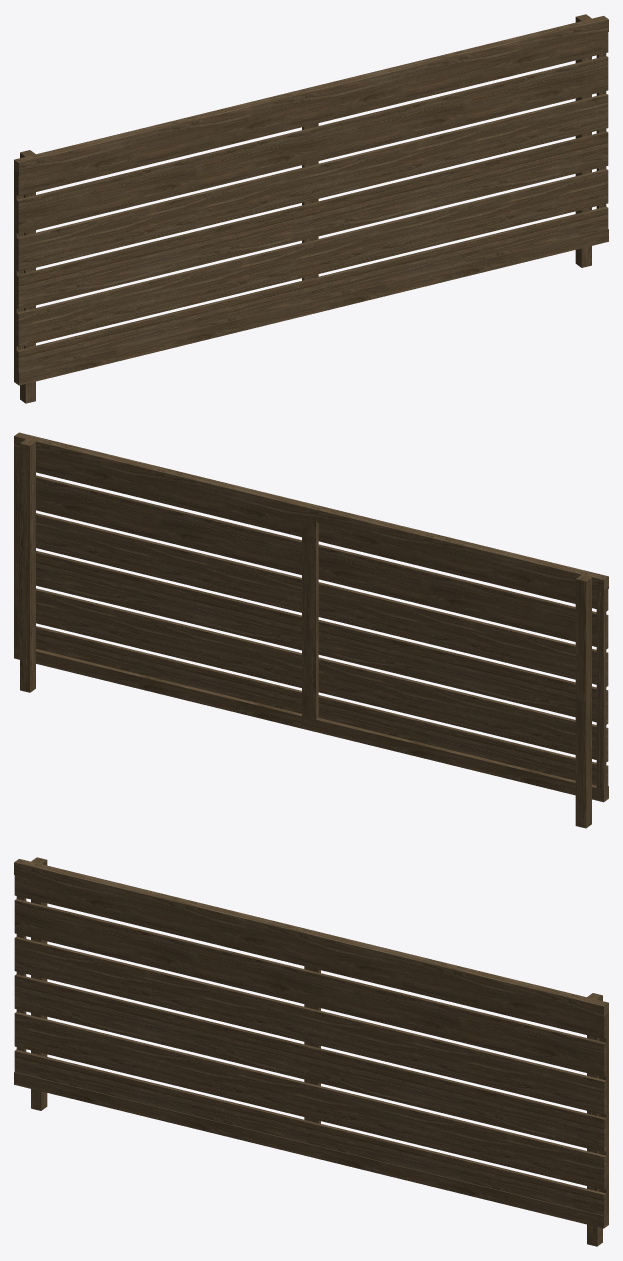
File: everartfencekabenashi_720-1998_brownebony.fbx
3 renders of one model, top to bottom at view 1: azimuth 30°, elevation 25°; view 2: azimuth 150°, elevation 25°; view 3: azimuth 330°, elevation 25°, orthographic.
Visible parts, largest first — view 1: everartfencekabenashi_720-1998_brownebony; view 2: everartfencekabenashi_720-1998_brownebony; view 3: everartfencekabenashi_720-1998_brownebony.
Boxes of the visible parts, x1,y1,x2,y2 form: everartfencekabenashi_720-1998_brownebony: (14,14,608,403); everartfencekabenashi_720-1998_brownebony: (14,432,608,828); everartfencekabenashi_720-1998_brownebony: (14,857,608,1246).
Bounding box in the file's own units: 200 × 80 × 6.5.
Materials: 1 (1 with a texture image).
